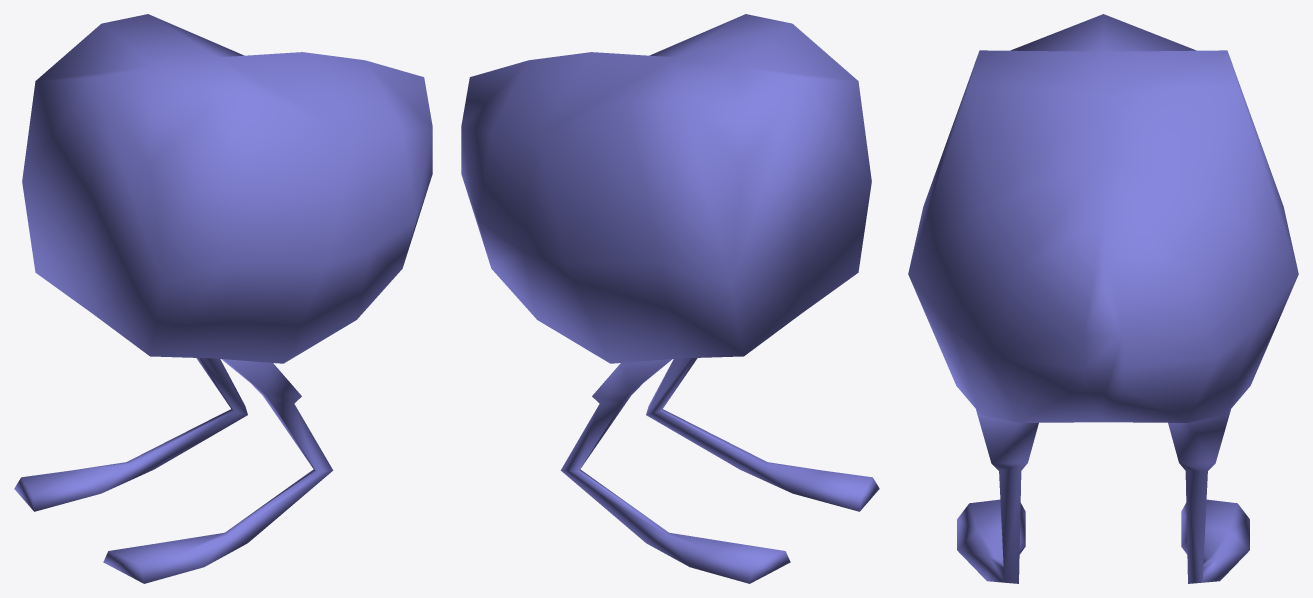
Rendered from Simorgh_Part_4.fbx.
3 views of the same model, side by side, from view 1: azimuth 30°, elevation 25°; view 2: azimuth 150°, elevation 25°; view 3: azimuth 270°, elevation 25° (orthographic). The views are drawn at different scales.
Visible parts, largest first — view 1: Simorgh_Part_010; view 2: Simorgh_Part_010; view 3: Simorgh_Part_010.
Boxes of the visible parts, left/top/right/bottom form: Simorgh_Part_010: left=14, top=14, right=432, bottom=583; Simorgh_Part_010: left=461, top=14, right=879, bottom=583; Simorgh_Part_010: left=908, top=14, right=1298, bottom=583.
Bounding box in the file's own units: 33.66 × 41.17 × 28.41.
